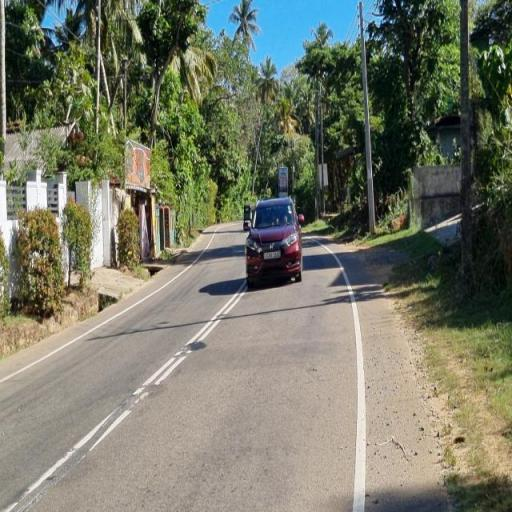double_white_line: (132, 286, 246, 405)
